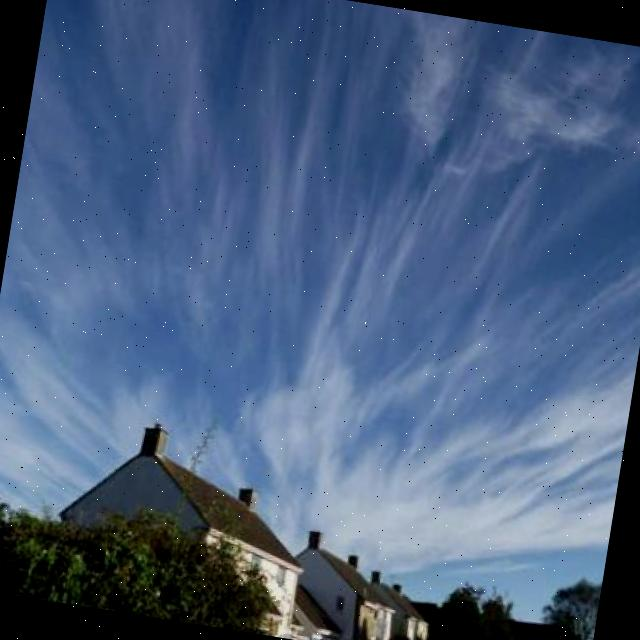Ci: (1, 1, 640, 452)
